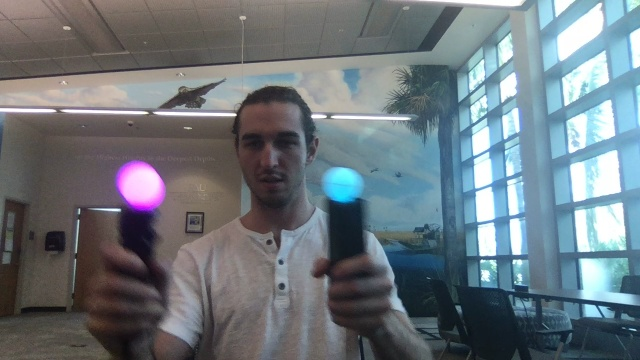wand: (120, 162, 165, 211), (324, 168, 363, 201)
